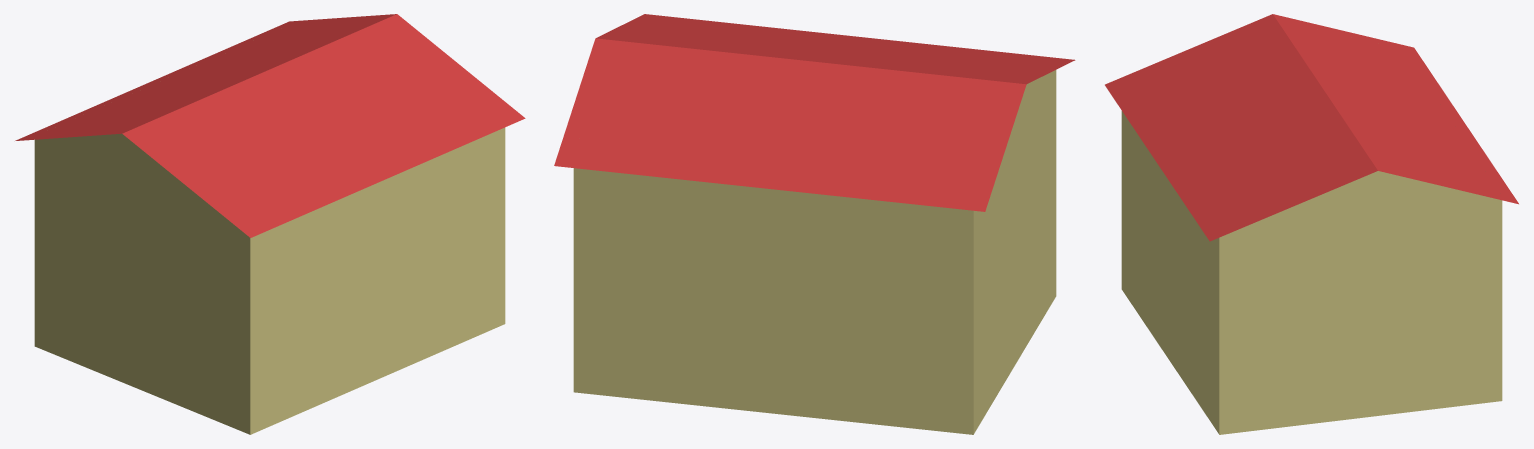
The picture shows the model from 3 angles, left to right: view 1: azimuth 30°, elevation 25°; view 2: azimuth 150°, elevation 25°; view 3: azimuth 270°, elevation 25°; orthographic projection. The views are drawn at different scales.
Size of the model in its own units: 16.39 by 14.82 by 9.9.
